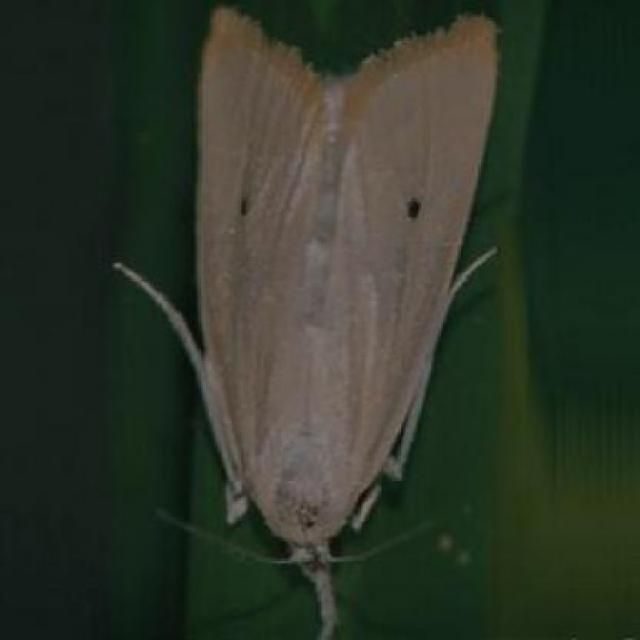stem-borer: (109, 0, 502, 640)
